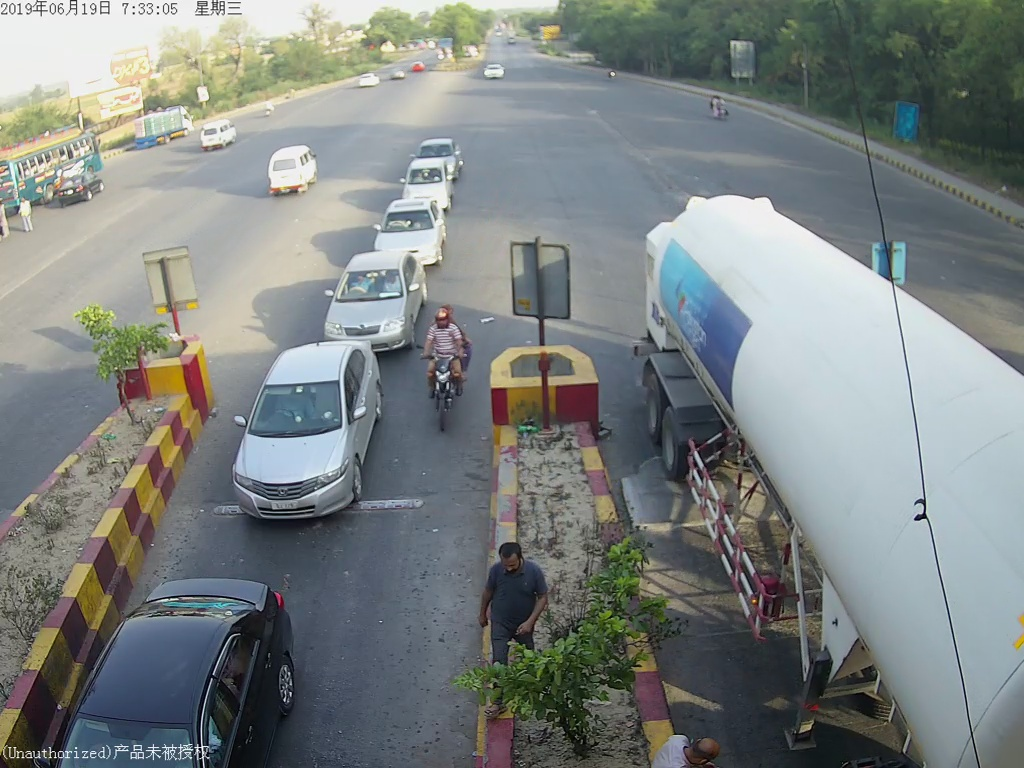Cat-1: (226, 344, 402, 530), (321, 263, 421, 342), (371, 202, 443, 247)
